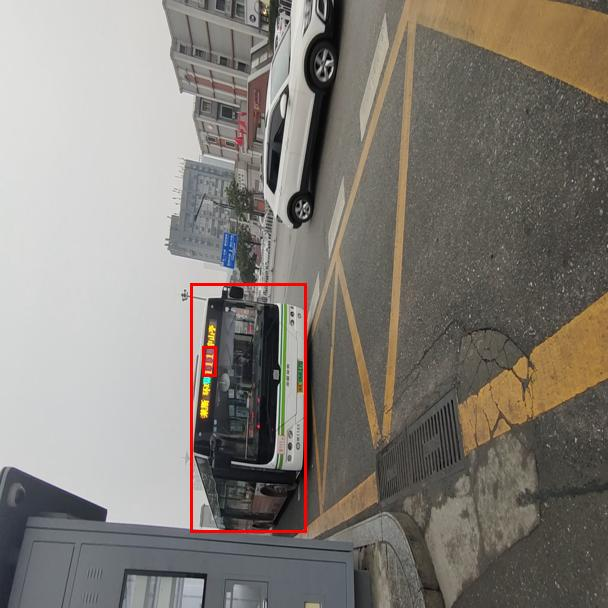bus: (190, 283, 306, 532)
screen: (202, 346, 216, 376)
